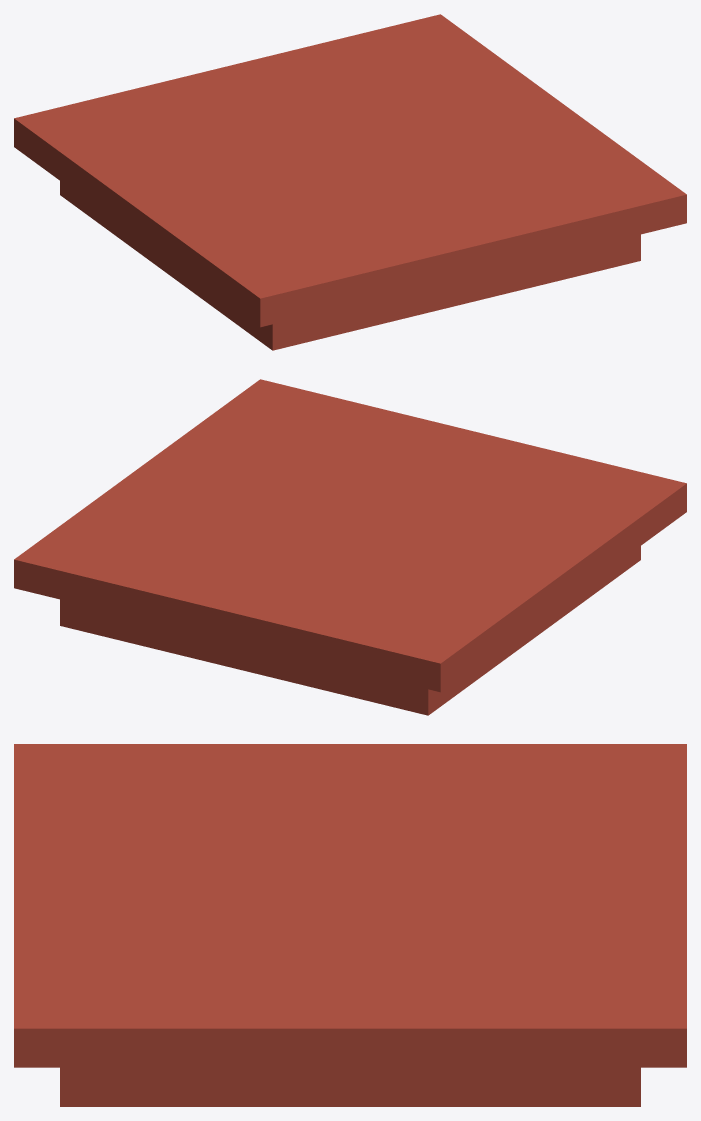
File: ground_metapulse.fbx
3 views of the same model, one above another, from view 1: azimuth 30°, elevation 25°; view 2: azimuth 150°, elevation 25°; view 3: azimuth 270°, elevation 25° (orthographic). The views are drawn at different scales.
Visible parts, largest first — view 1: Cube; view 2: Cube; view 3: Cube.
Boxes of the visible parts, x1=… form: Cube: x1=14, y1=14, x2=686, y2=350; Cube: x1=14, y1=379, x2=686, y2=715; Cube: x1=14, y1=744, x2=686, y2=1106.
Size of the model in its own units: 695 by 111 by 695.
